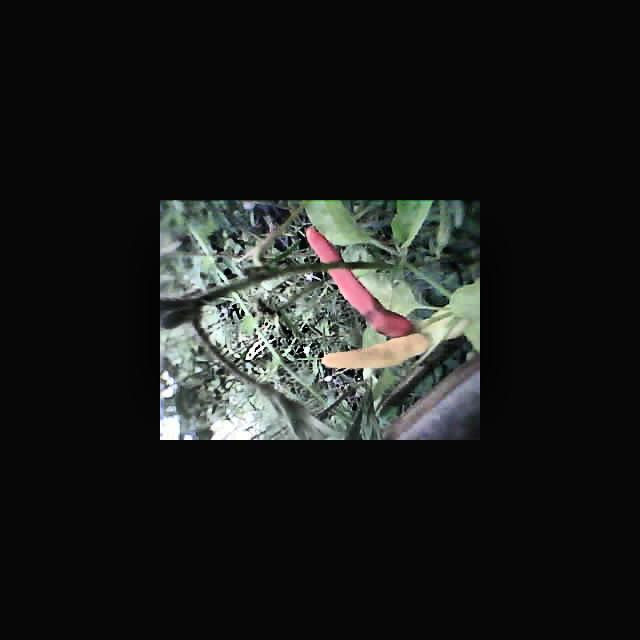Cabai: (306, 232, 420, 332), (319, 334, 434, 373)
